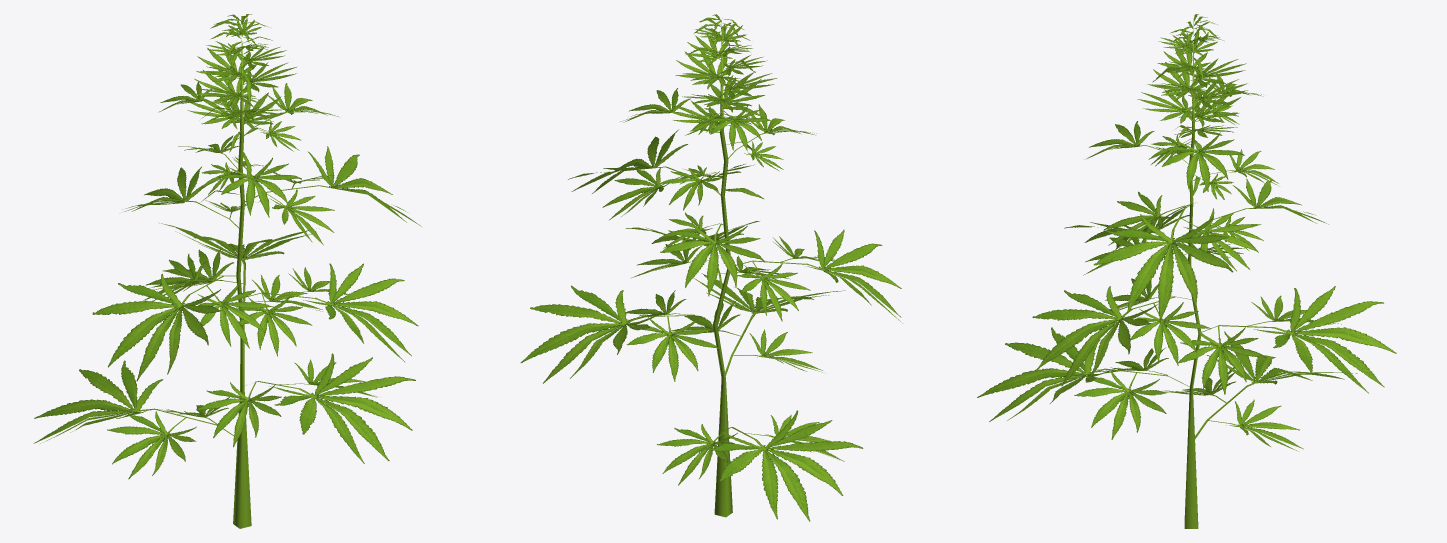
The model's file is kytka_mari_mlada.glb.
3 renders of one model, left to right at view 1: azimuth 30°, elevation 25°; view 2: azimuth 150°, elevation 25°; view 3: azimuth 270°, elevation 25°, orthographic.
Visible parts, largest first — view 1: kytka_mari_mlada_0; view 2: kytka_mari_mlada_0; view 3: kytka_mari_mlada_0.
Boxes of the visible parts, box(x1,y1,x2,y2) form: kytka_mari_mlada_0: box(33, 14, 421, 528); kytka_mari_mlada_0: box(520, 14, 902, 521); kytka_mari_mlada_0: box(977, 14, 1396, 528).
Bounding box in the file's own units: 0.7657 × 1 × 0.8635.
1 material, 1 textured.
